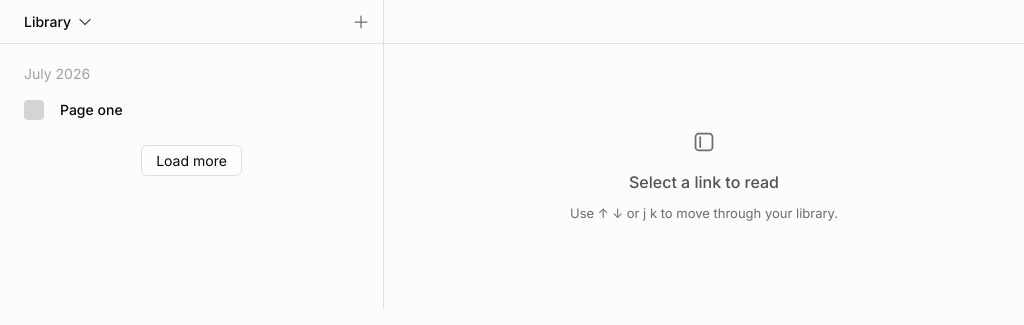
Scenario: LibraryView (real useInfiniteLinks, mocked fetch only) › loads the first page, then the load-more button drives a real second fetch and disables the prefetch guard once exhausted
Expected: the text "Page one" is shown, [60,101,123,118]
Click the button "Load more" at [192, 160], box [141,145,242,176]
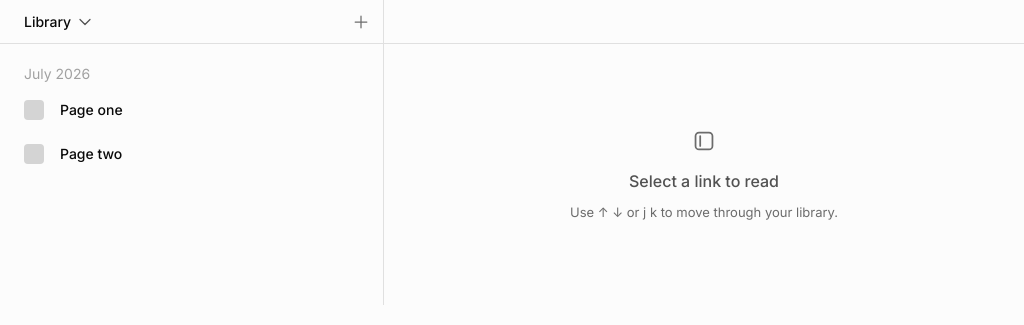
Expected: the text "Page two" is shown, [60,145,122,162]
Expected: the button "Load more" is gone
